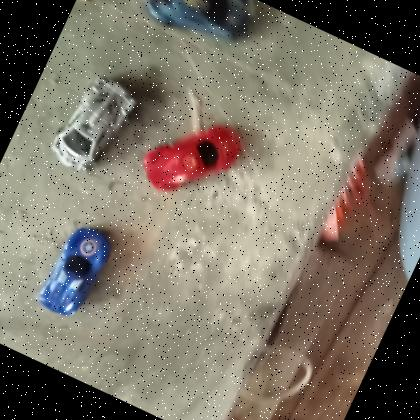Car: (132, 100, 250, 218), (44, 63, 148, 185), (32, 219, 118, 326)
